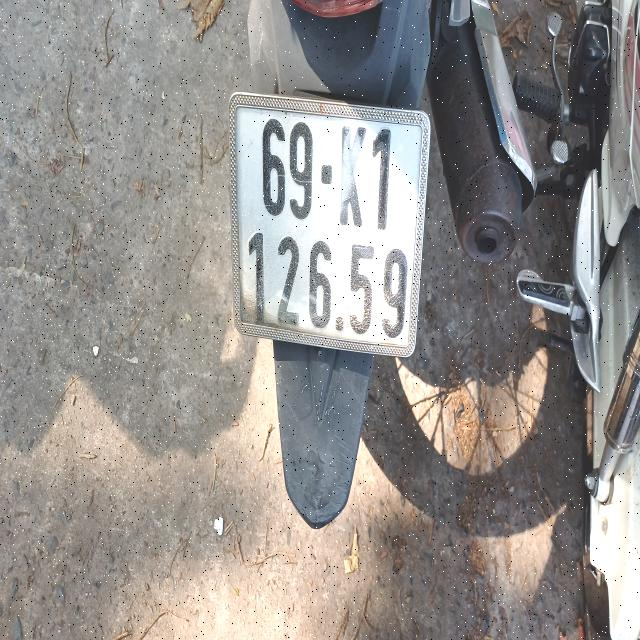1: (244, 227, 270, 324), (371, 126, 391, 236)
2: (276, 232, 300, 331)
5: (350, 242, 372, 334)
6: (262, 112, 286, 218), (308, 229, 332, 334)
9: (289, 115, 313, 222), (384, 243, 406, 335)
K: (339, 118, 364, 234)
